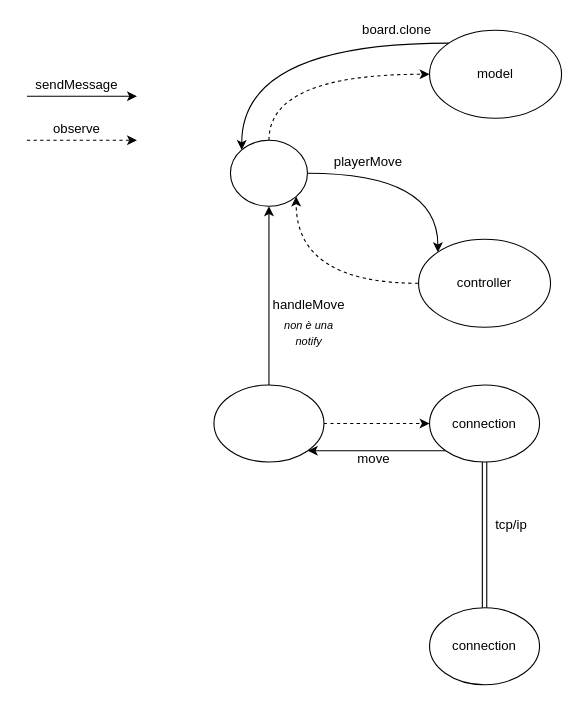
This 581x704 diagram has some shape labels left out. Each missing label, with the centre of its shape:
messagereceiver: the point at 268,423
remoteview: the point at 268,172
